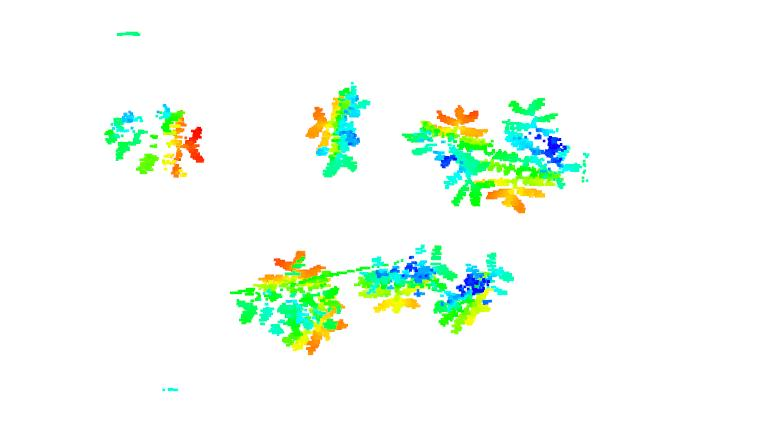chickpea: (231, 250, 350, 354), (486, 92, 568, 217), (406, 104, 494, 209), (105, 101, 205, 183), (354, 246, 457, 314), (303, 78, 372, 177), (434, 251, 514, 335)
